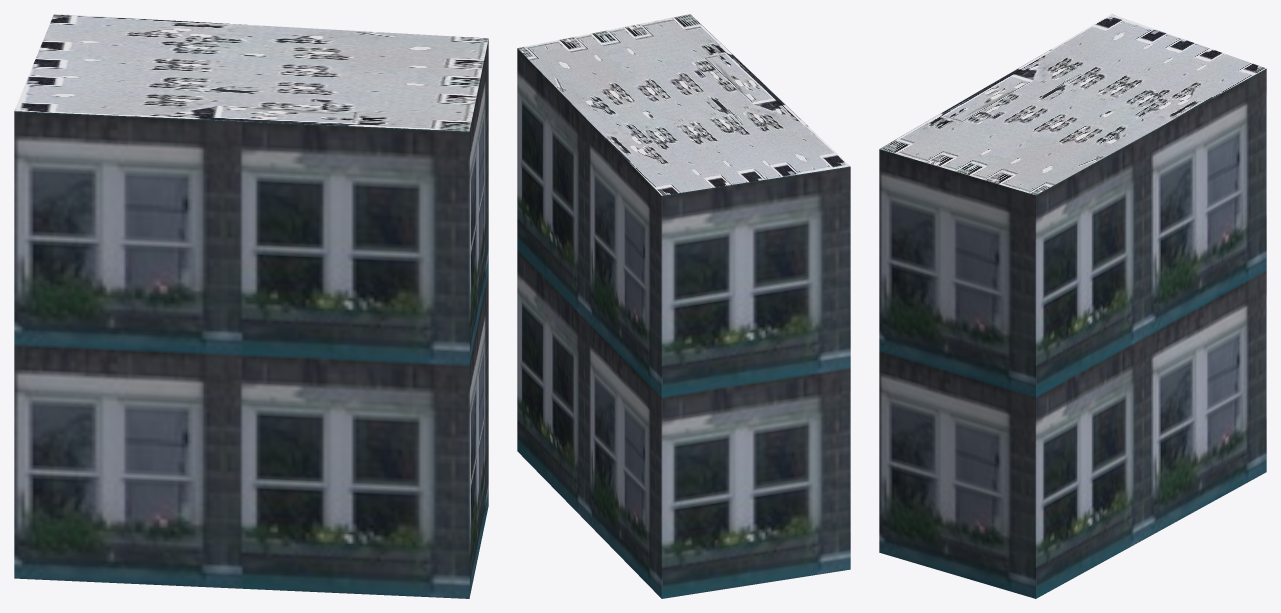
File: ResTex__1368.fbx
The picture shows the model from 3 angles, left to right: view 1: azimuth 30°, elevation 25°; view 2: azimuth 150°, elevation 25°; view 3: azimuth 270°, elevation 25°; orthographic projection. The views are drawn at different scales.
Visible parts, largest first — view 1: CityEngineMaterial_11_m, CityEngineMaterial_4_m; view 2: CityEngineMaterial_11_m, CityEngineMaterial_4_m; view 3: CityEngineMaterial_11_m, CityEngineMaterial_4_m.
Part boxes in pixels (<box>): CityEngineMaterial_11_m: <box>14,39,488,598</box>; CityEngineMaterial_4_m: <box>14,14,488,131</box>; CityEngineMaterial_11_m: <box>517,48,850,598</box>; CityEngineMaterial_4_m: <box>517,14,850,195</box>; CityEngineMaterial_11_m: <box>879,68,1266,598</box>; CityEngineMaterial_4_m: <box>880,14,1266,195</box>.
Size of the model in its own units: 5.78 by 6 by 5.22.
2 materials, 2 textured.
